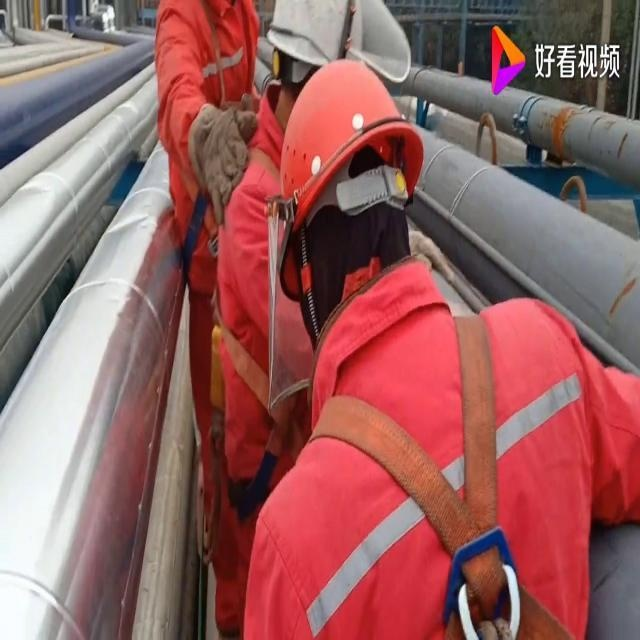Arnes_seguridad: (296, 293, 578, 639)
